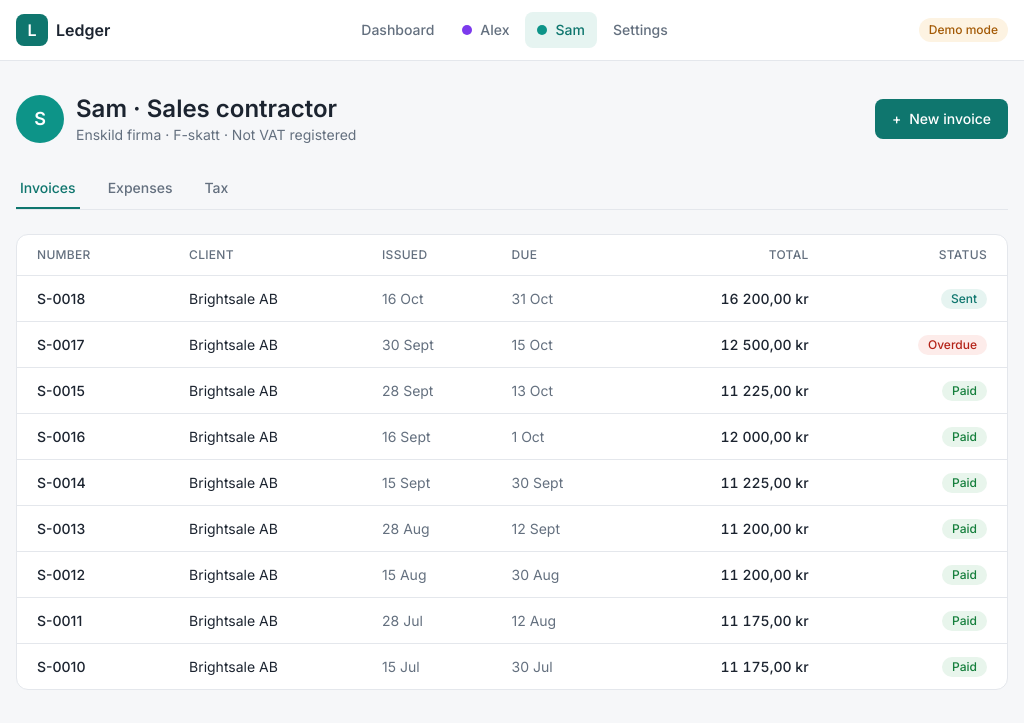
Test: Invoice editor › pre-fills the sales invoice in USD with base fee and a commission amount
Click the button "+ New invoice" at (941, 119), box left=875, top=99, right=1008, bottom=139
(page scrolled)
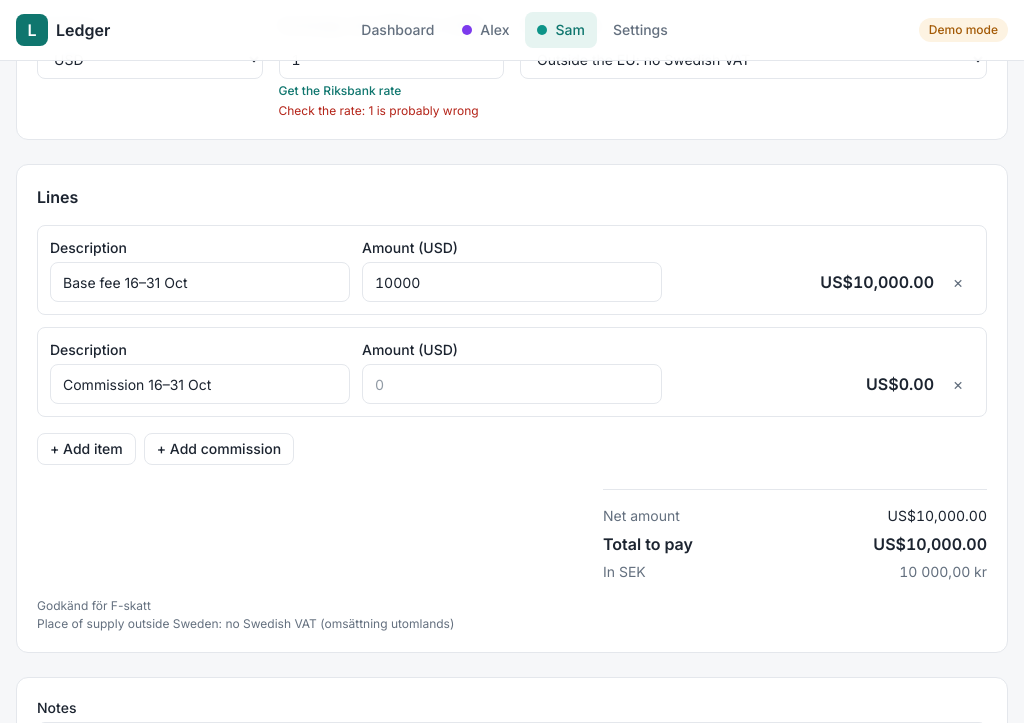
Result: the dropdown labelled "Currency" shows "USD" at left=37, top=39, right=262, bottom=79
Type "2250" into the field labelled "Amount (USD)" in the row of "US$0.00" at (512, 384), box left=362, top=364, right=662, bottom=404
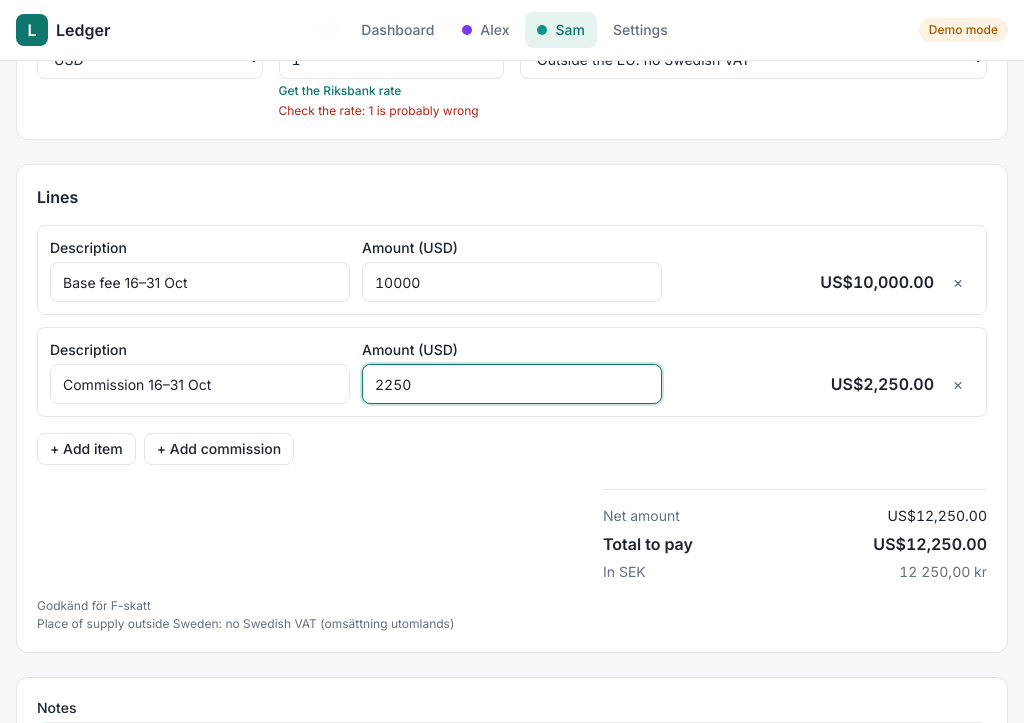
Result: the dropdown labelled "VAT (moms)" shows "Outside the EU: no Swedish VAT" at left=520, top=39, right=987, bottom=79
Result: the list item "Place of supply outside Sweden" is shown at left=37, top=616, right=454, bottom=631
Result: the text with test id "total-gross" shows "12,250.00" at left=873, top=534, right=987, bottom=554
